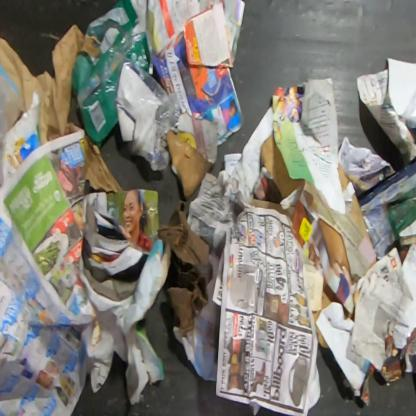cardboard: (318, 161, 378, 286), (158, 200, 210, 334), (166, 128, 216, 201), (260, 129, 305, 198)
soft_plastic: (71, 0, 154, 149), (115, 56, 182, 171), (0, 64, 27, 192)
